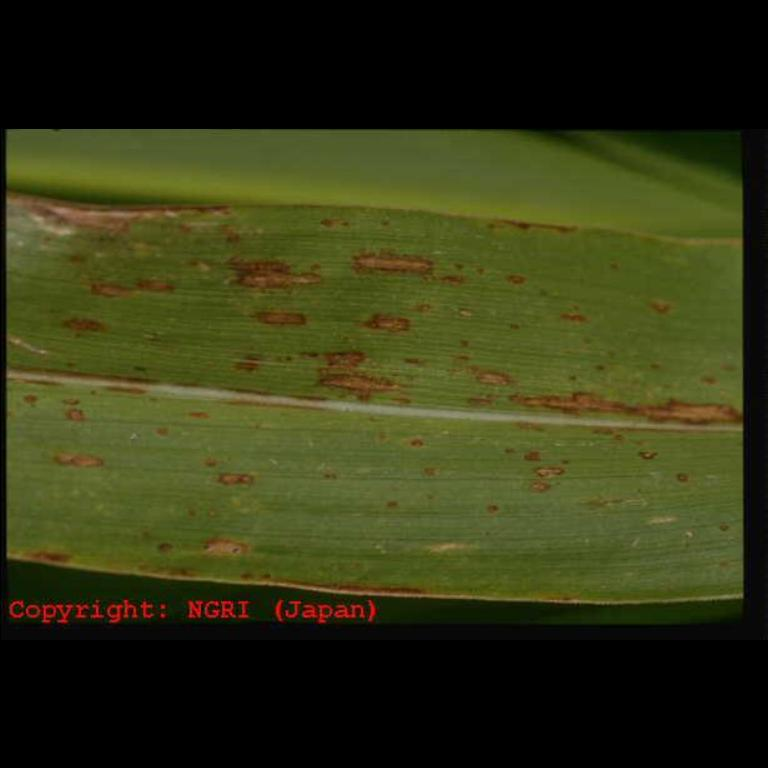blight: (218, 228, 526, 400)
